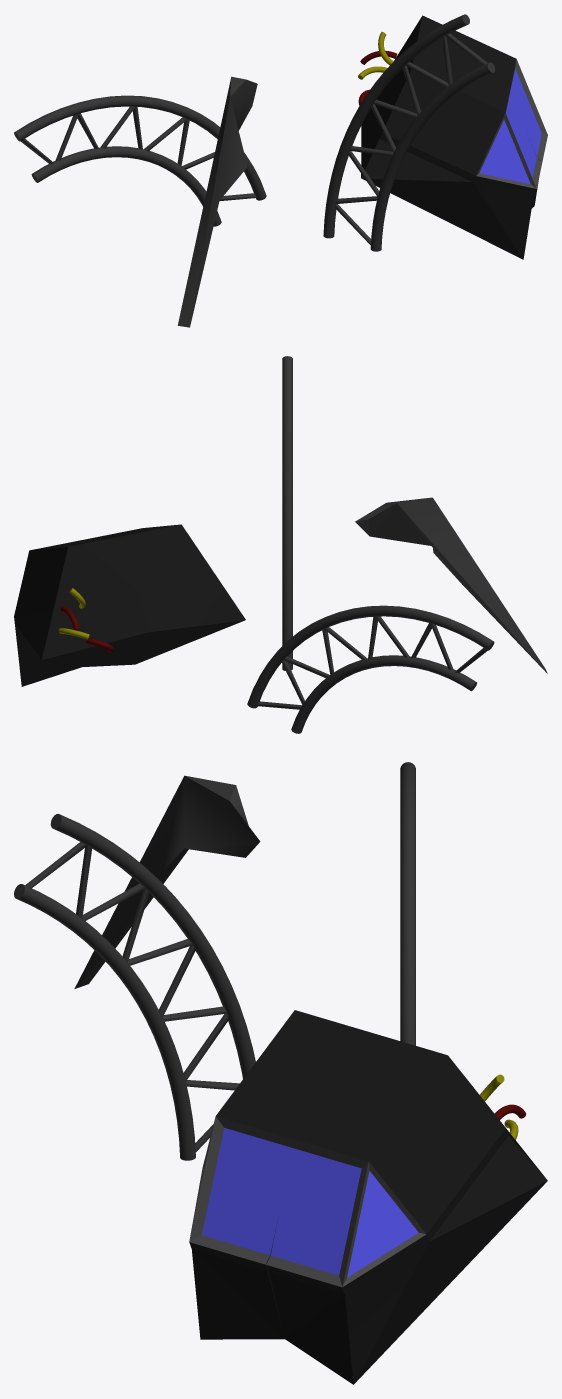
File: crashed_ship.FBX
3 views of the same model, one above another, from view 1: azimuth 30°, elevation 25°; view 2: azimuth 150°, elevation 25°; view 3: azimuth 270°, elevation 25° (orthographic). The views are drawn at different scales.
Visible parts, largest first — view 1: Box004, MainBeam001, MainBeam, Box003; view 2: Box004, MainBeam, Box003, MainBeam001; view 3: Box004, MainBeam001, Box003, MainBeam.
Boxes of the visible parts, left/top/right/bottom form: Box004: left=361, top=15, right=547, bottom=259; MainBeam001: left=323, top=14, right=494, bottom=251; MainBeam: left=14, top=95, right=266, bottom=226; Box003: left=177, top=76, right=257, bottom=327; Box004: left=14, top=524, right=245, bottom=686; MainBeam: left=247, top=605, right=494, bottom=733; Box003: left=355, top=497, right=547, bottom=673; MainBeam001: left=282, top=356, right=292, bottom=670; Box004: left=189, top=1010, right=547, bottom=1384; MainBeam001: left=14, top=814, right=255, bottom=1160; Box003: left=74, top=775, right=260, bottom=988; MainBeam: left=400, top=762, right=415, bottom=1045.
Size of the model in its own units: 500 by 287 by 310.
